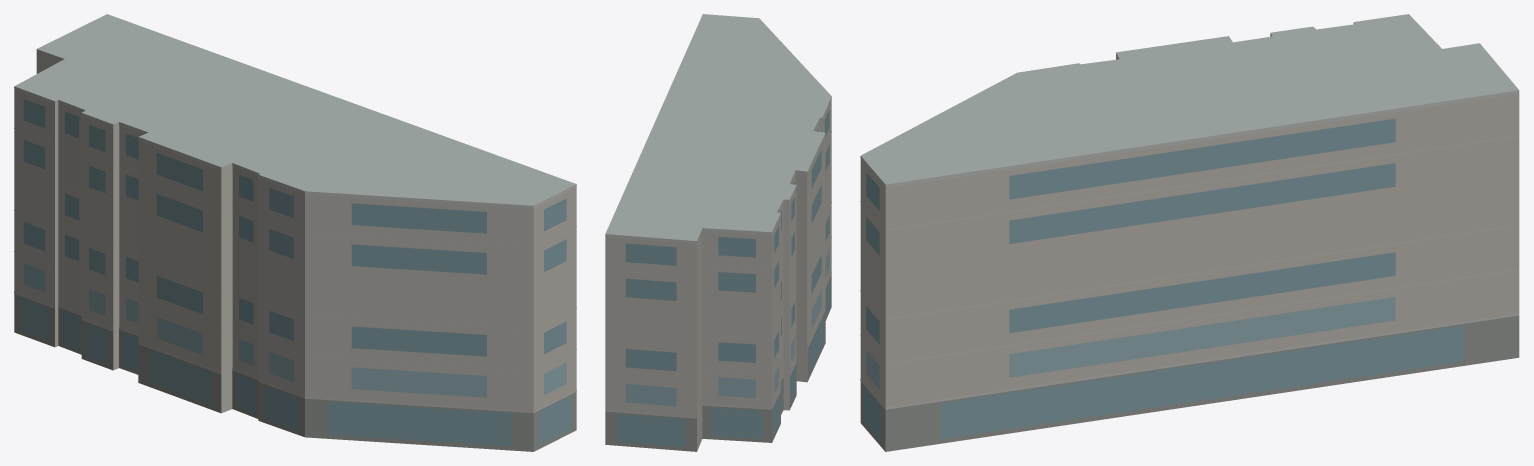
File: survey-upis-33030328.glb
3 renders of one model, left to right at view 1: azimuth 30°, elevation 25°; view 2: azimuth 150°, elevation 25°; view 3: azimuth 270°, elevation 25°, orthographic. The views are drawn at different scales.
Parts seen in each view (by area): view 1: survey-upis-33030328.tmp; view 2: survey-upis-33030328.tmp; view 3: survey-upis-33030328.tmp.
Part boxes in pixels (bbox=[...]): survey-upis-33030328.tmp: bbox=[14, 14, 576, 451]; survey-upis-33030328.tmp: bbox=[605, 14, 831, 451]; survey-upis-33030328.tmp: bbox=[860, 14, 1519, 451].
Size of the model in its own units: 24.51 by 17.9 by 40.
